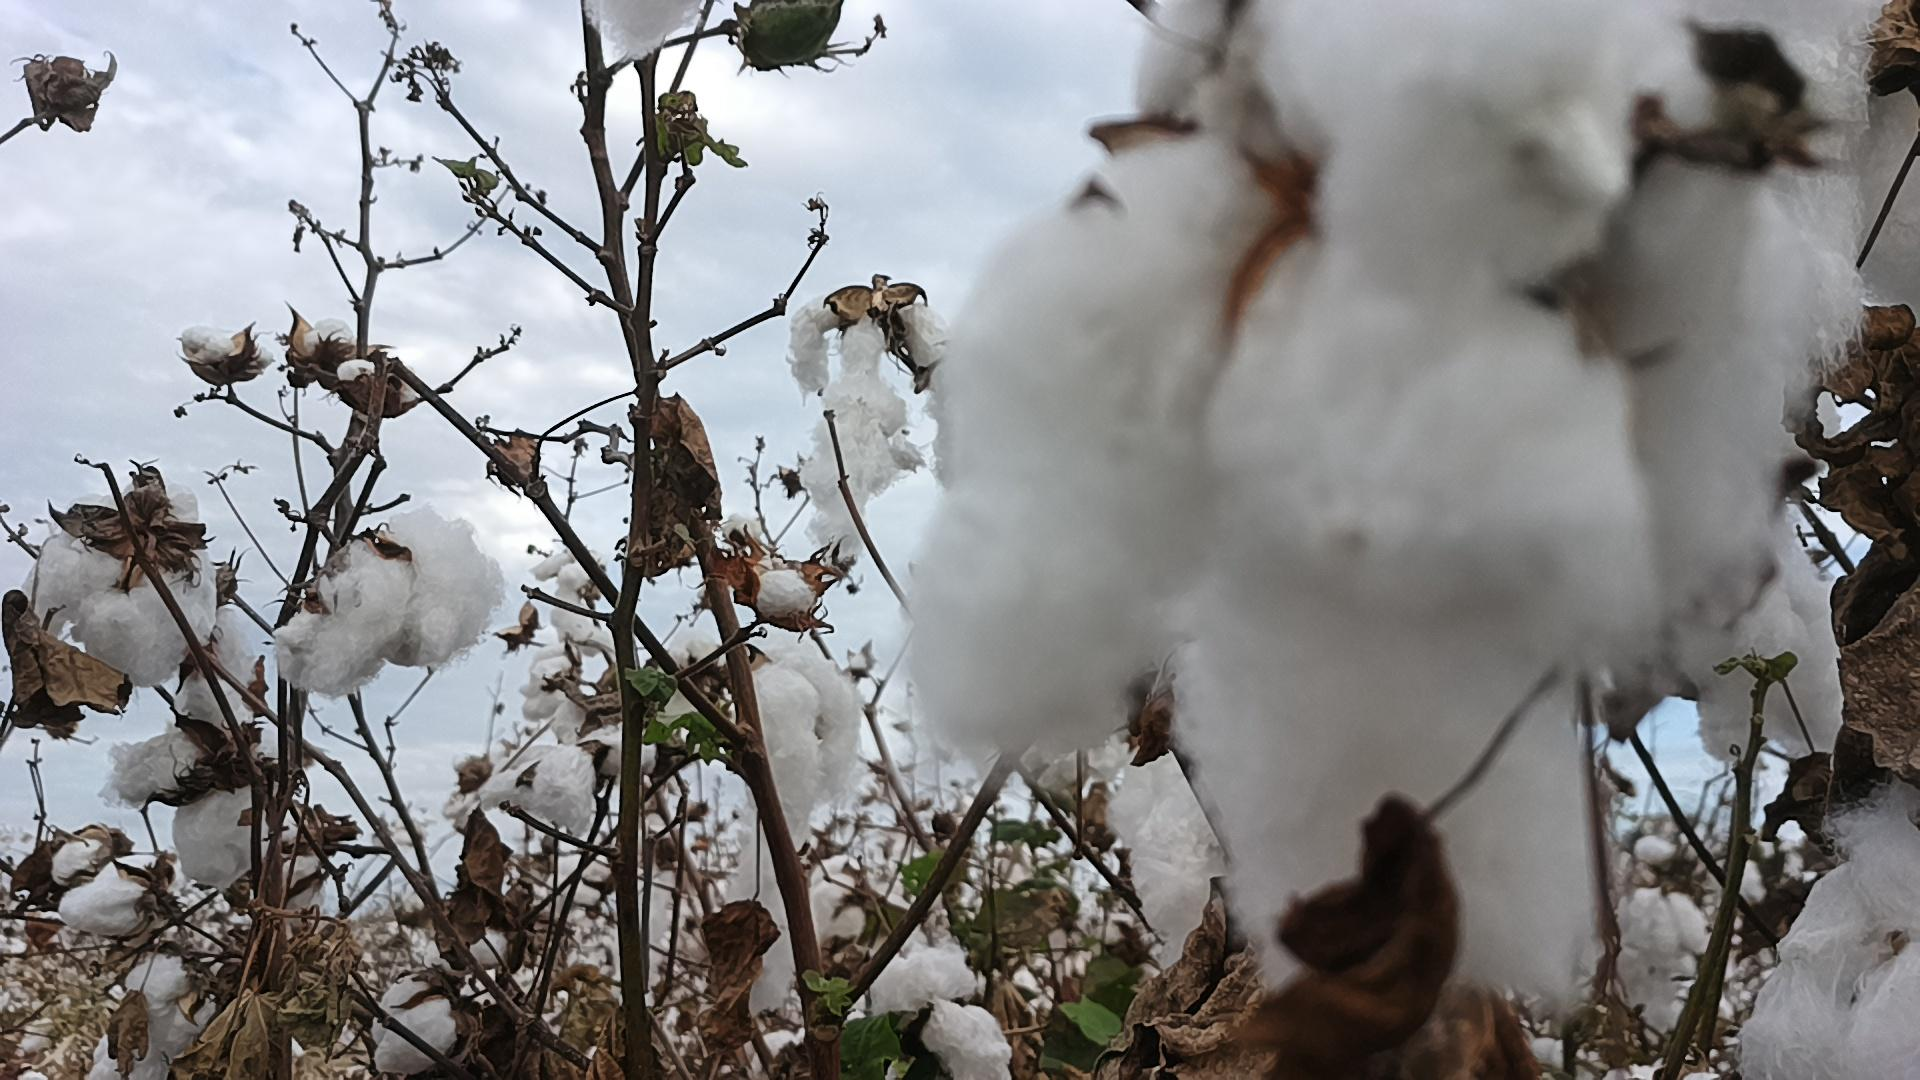cotton_ready: (906, 137, 1643, 1010), (1262, 0, 1825, 625), (104, 611, 287, 886), (732, 650, 868, 1010), (1742, 806, 1920, 1080), (266, 505, 508, 702), (1768, 0, 1920, 313), (789, 293, 960, 553), (1685, 525, 1861, 766), (26, 493, 214, 691), (1113, 723, 1236, 965), (864, 951, 1044, 1080), (477, 717, 658, 835), (1135, 0, 1278, 148), (723, 508, 862, 629), (86, 953, 200, 1080), (1618, 893, 1713, 1033), (368, 973, 468, 1076), (55, 856, 178, 936), (887, 1006, 1015, 1080), (574, 0, 703, 61), (298, 315, 380, 397), (182, 326, 268, 376)
